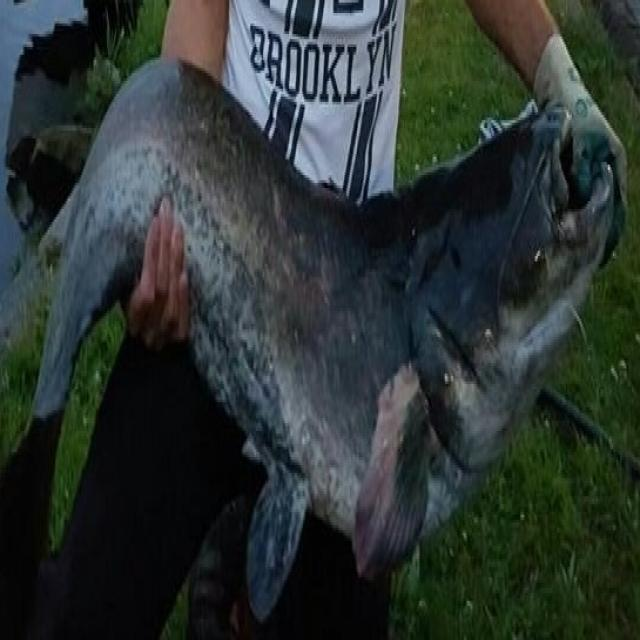Catfish: (31, 40, 626, 627)
